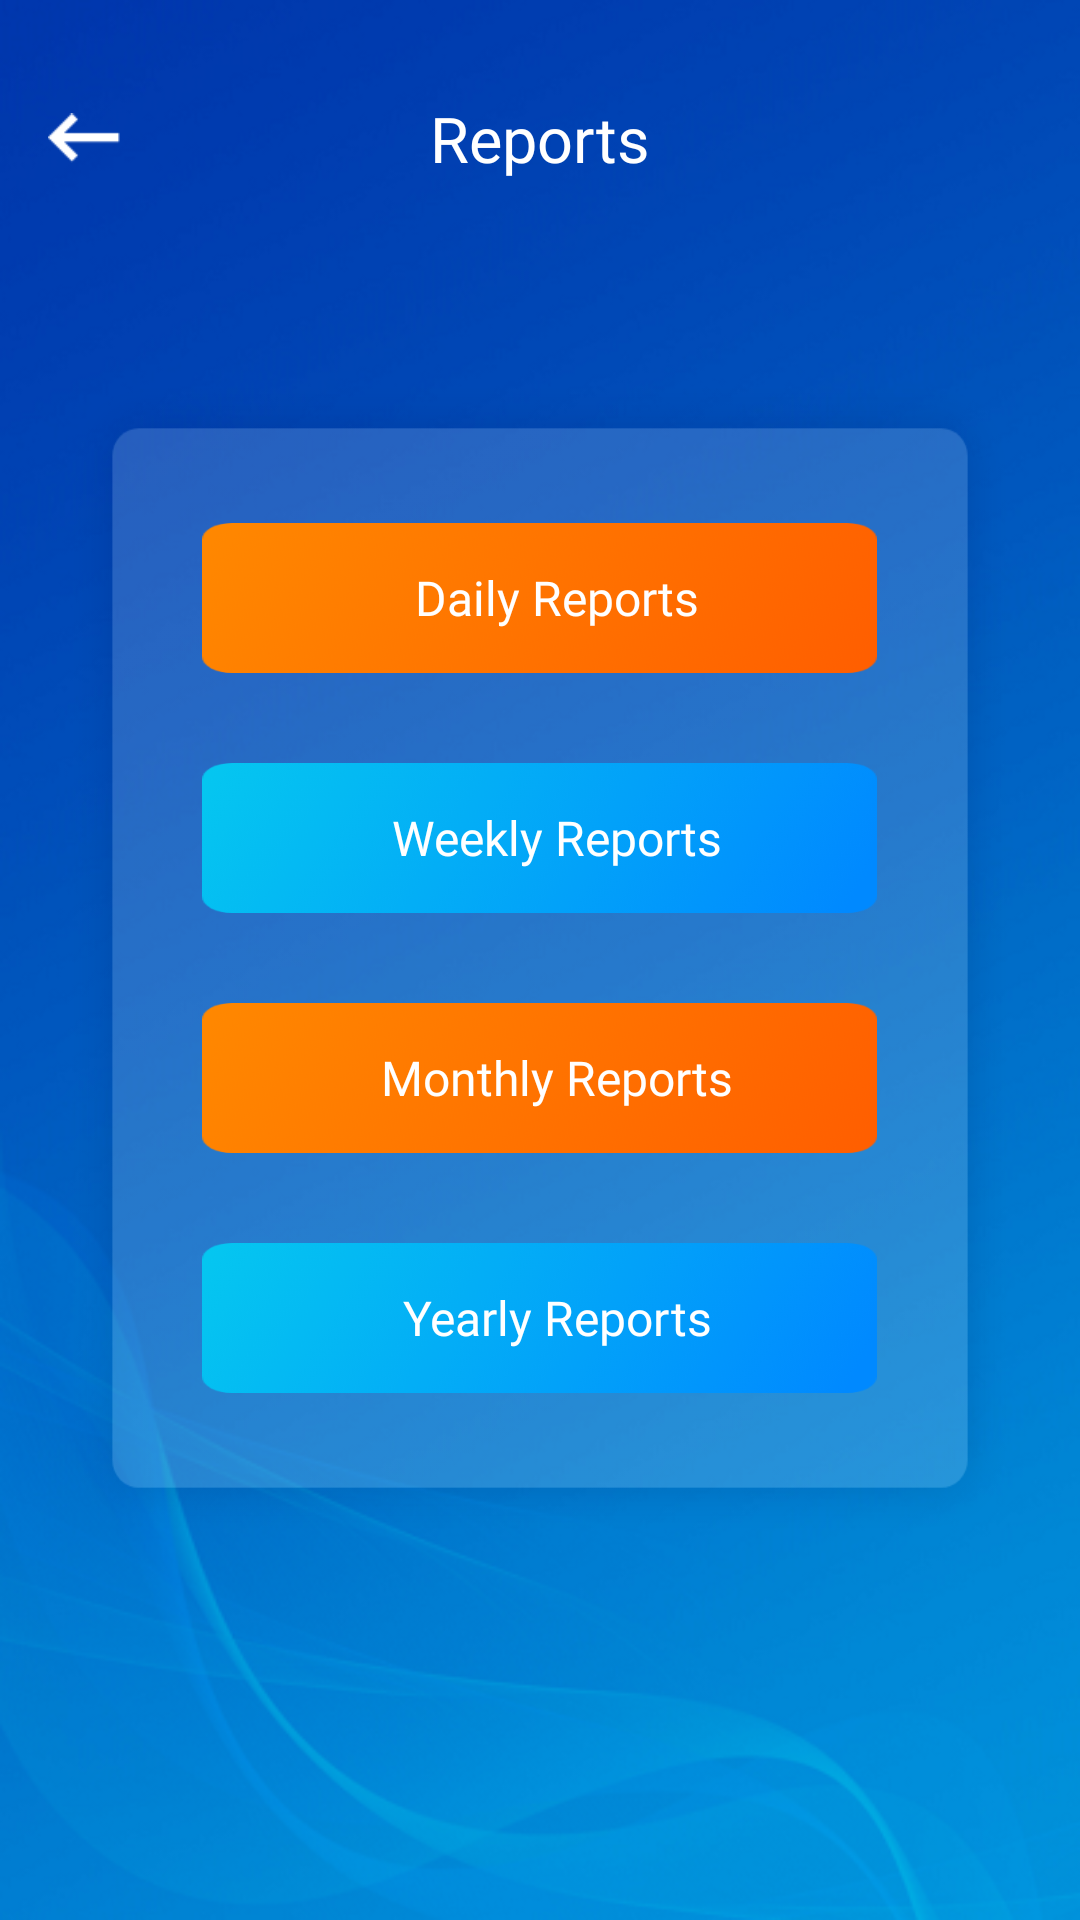

Locate icon controls on the screen. Image size 1080px×1920px, boxes as (x1, y1, x2, y2).
backbtn: (48, 113, 120, 162)
